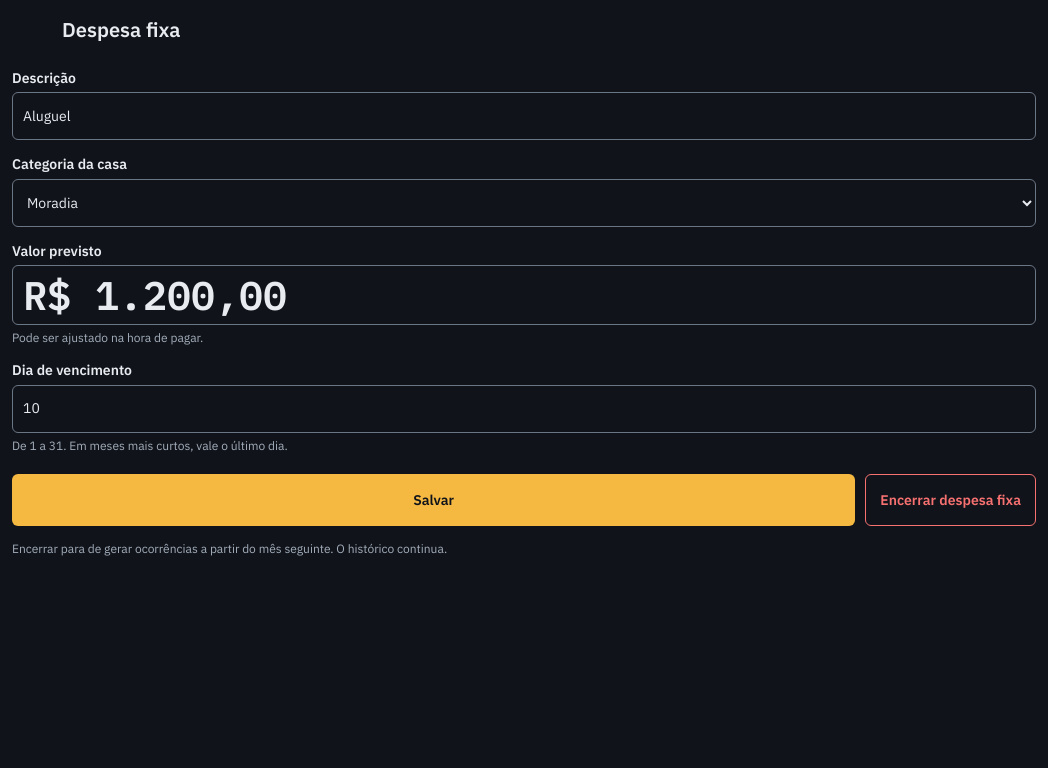
Scenario: DespesaFixa: validação › dia "0" mostra "Use um dia de 1 a 31." e a ajuda reduzida
Replace the text in the field labelled "Dia de vencimento" with "0": (524, 409) 12,385 -> 1036,433
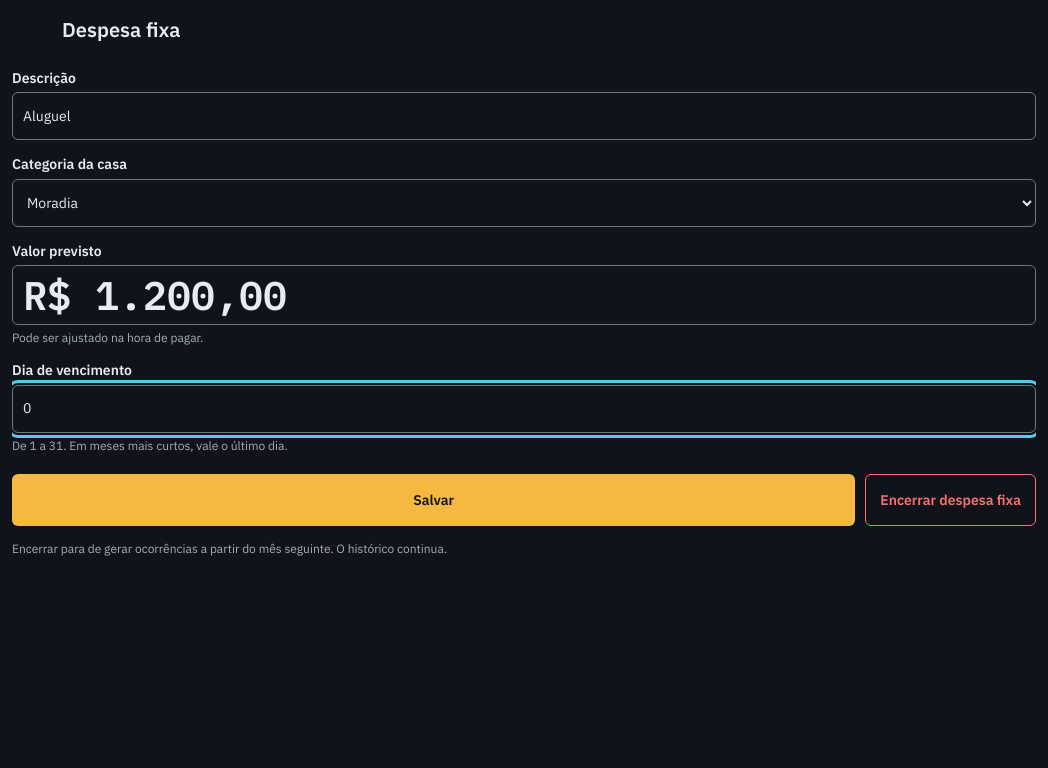
Click the button "Salvar": click(434, 500) 12,474 -> 855,526
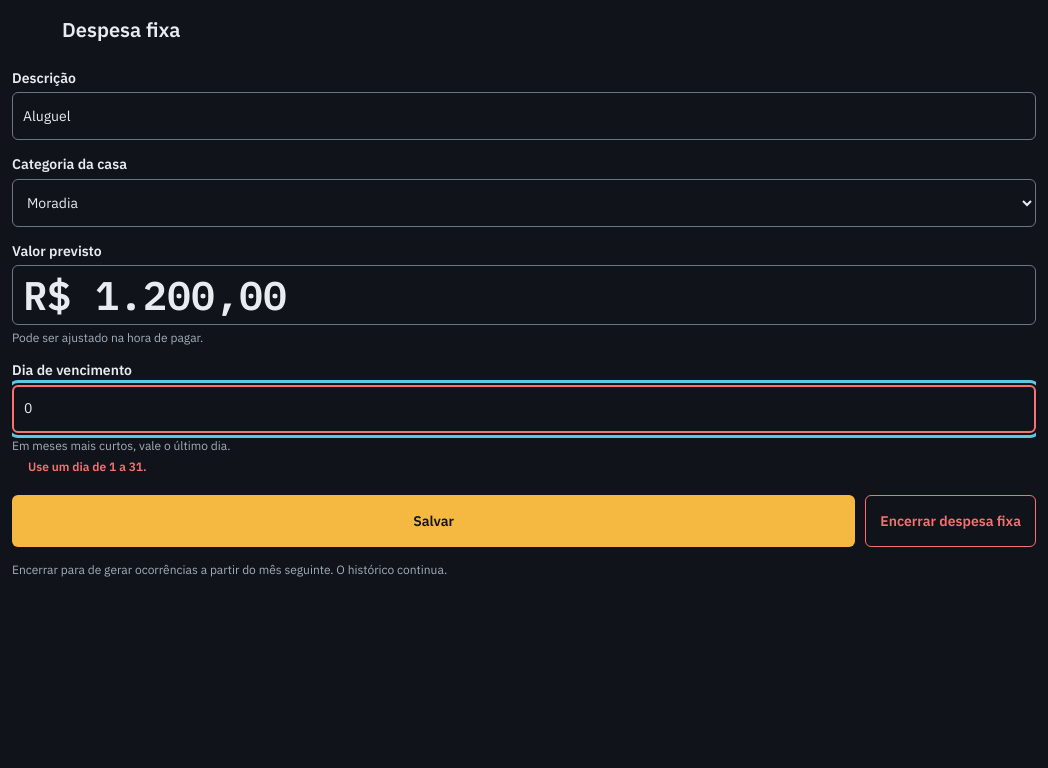
Check: the text "Em meses mais curtos, vale o último dia." is shown, box 12,438 -> 231,453
Check: the text "Use um dia de 1 a 31." is shown, box 12,459 -> 147,474
Check: the text "De 1 a 31. Em meses mais curtos, vale o último dia." is gone
